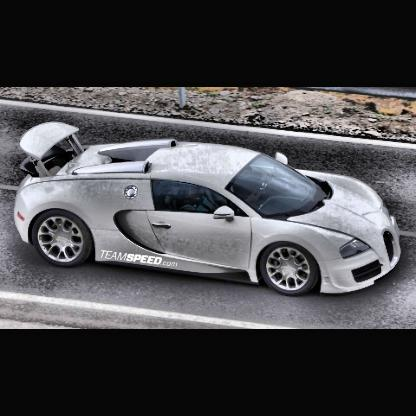Bugatti Veyron 16-4 Coupe 2009: (15, 122, 403, 298)
